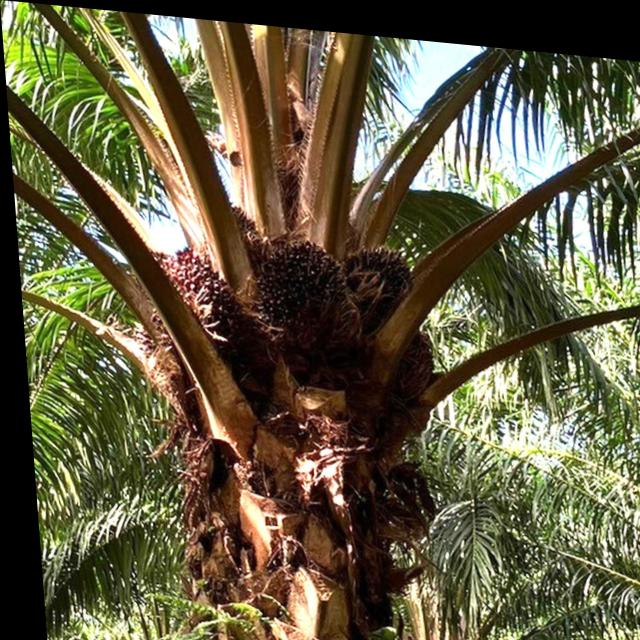ripe: (241, 229, 349, 341), (150, 242, 237, 334)
